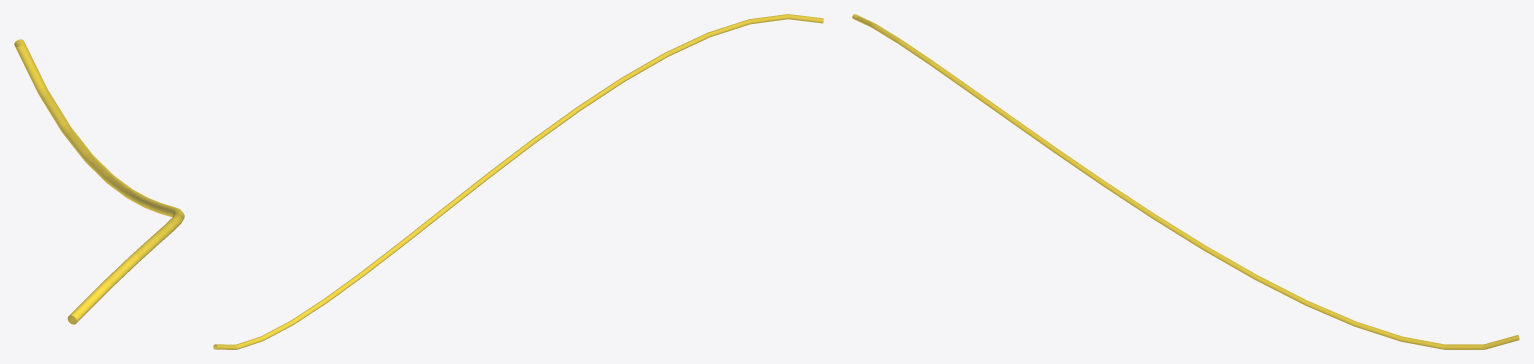
The model's file is Event_419990632_track_43.fbx.
The picture shows the model from 3 angles, left to right: view 1: azimuth 90°, elevation 25°; view 2: azimuth 210°, elevation 25°; view 3: azimuth 330°, elevation 25°; orthographic projection. The views are drawn at different scales.
Visible parts, largest first — view 1: Model; view 2: Model; view 3: Model.
Part boxes in pixels (<box>): Model: <box>14,39,184,324</box>; Model: <box>213,14,823,349</box>; Model: <box>852,14,1519,349</box>.
Size of the model in its own units: 5.44 by 1.57 by 0.6433.
